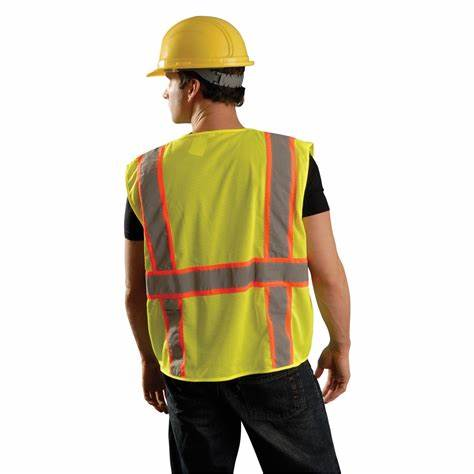Helmet: (142, 13, 260, 134)
Reflective vest: (122, 125, 320, 385)
